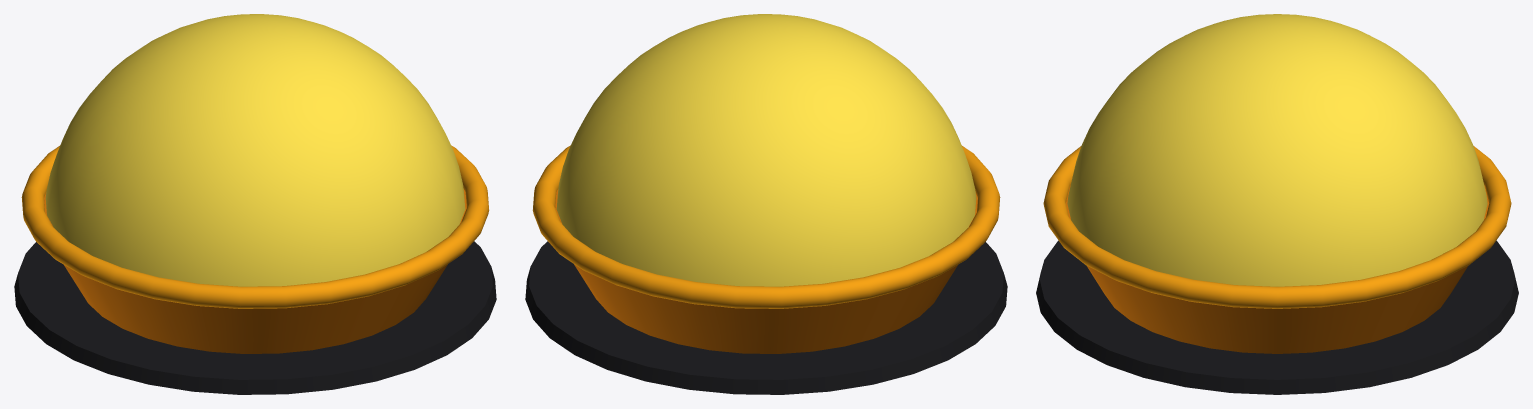
The model's file is biryani.glb.
3 renders of one model, left to right at view 1: azimuth 30°, elevation 25°; view 2: azimuth 150°, elevation 25°; view 3: azimuth 270°, elevation 25°, orthographic.
Bounding box in the file's own units: 0.26 × 0.154 × 0.26.
